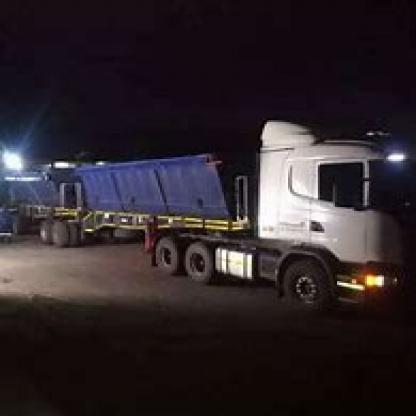dump_truck: (4, 111, 414, 316)
